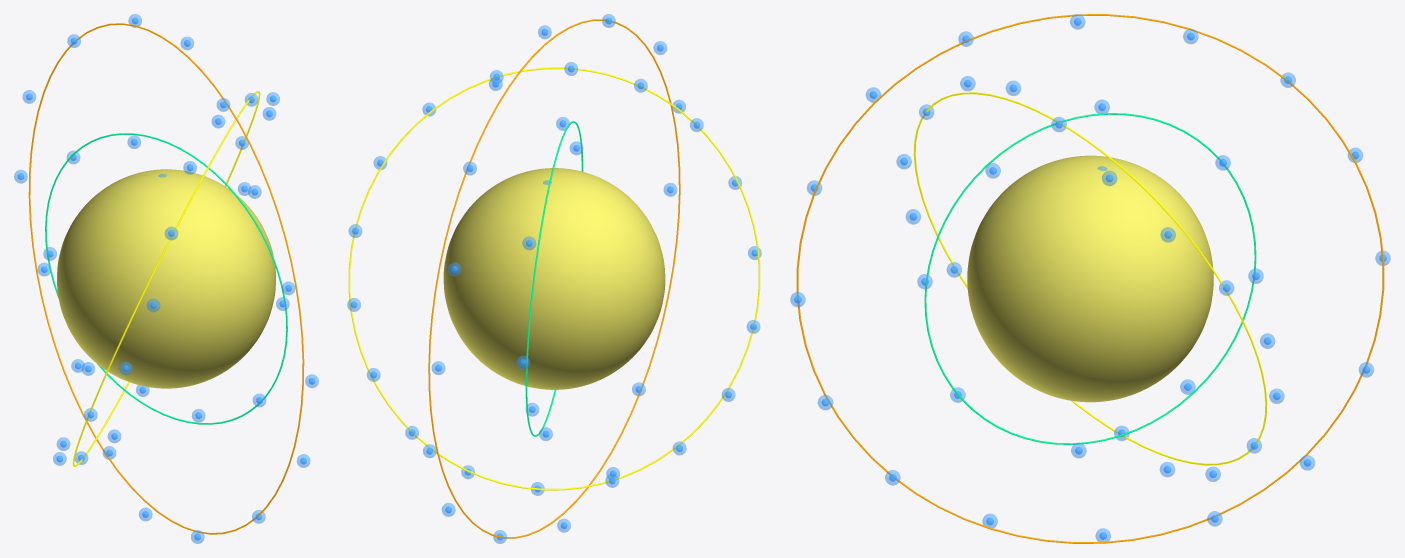
3 views of the same model, side by side, from view 1: azimuth 30°, elevation 25°; view 2: azimuth 150°, elevation 25°; view 3: azimuth 270°, elevation 25° (orthographic). The views are drawn at different scales.
Visible parts, largest first — view 1: Ru, object 61, object 7, object 24; view 2: Ru, object 24, object 61, object 7; view 3: Ru, object 61, object 7, object 24.
Part boxes in pixels (x1,y1,x2,y2): Ru: [57, 169, 275, 388]; object 61: [28, 23, 304, 534]; object 7: [45, 133, 287, 424]; object 24: [72, 91, 260, 466]; Ru: [443, 168, 665, 389]; object 24: [348, 67, 760, 490]; object 61: [428, 19, 680, 538]; object 7: [525, 121, 583, 436]; Ru: [967, 155, 1213, 402]; object 61: [796, 14, 1384, 543]; object 7: [924, 113, 1256, 444]; object 24: [913, 92, 1267, 465].
Bounding box in the file's own units: 3.81 × 6.15 × 6.14.
